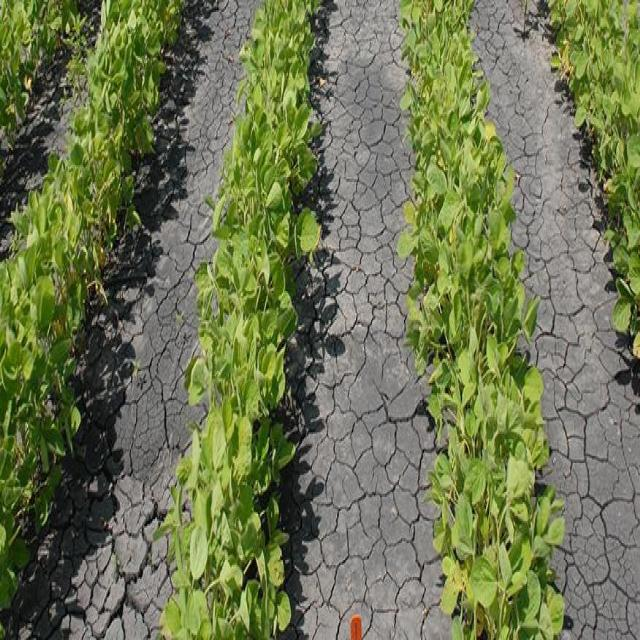row: (1, 0, 258, 639), (277, 1, 458, 640), (471, 2, 640, 639), (0, 3, 108, 264)
